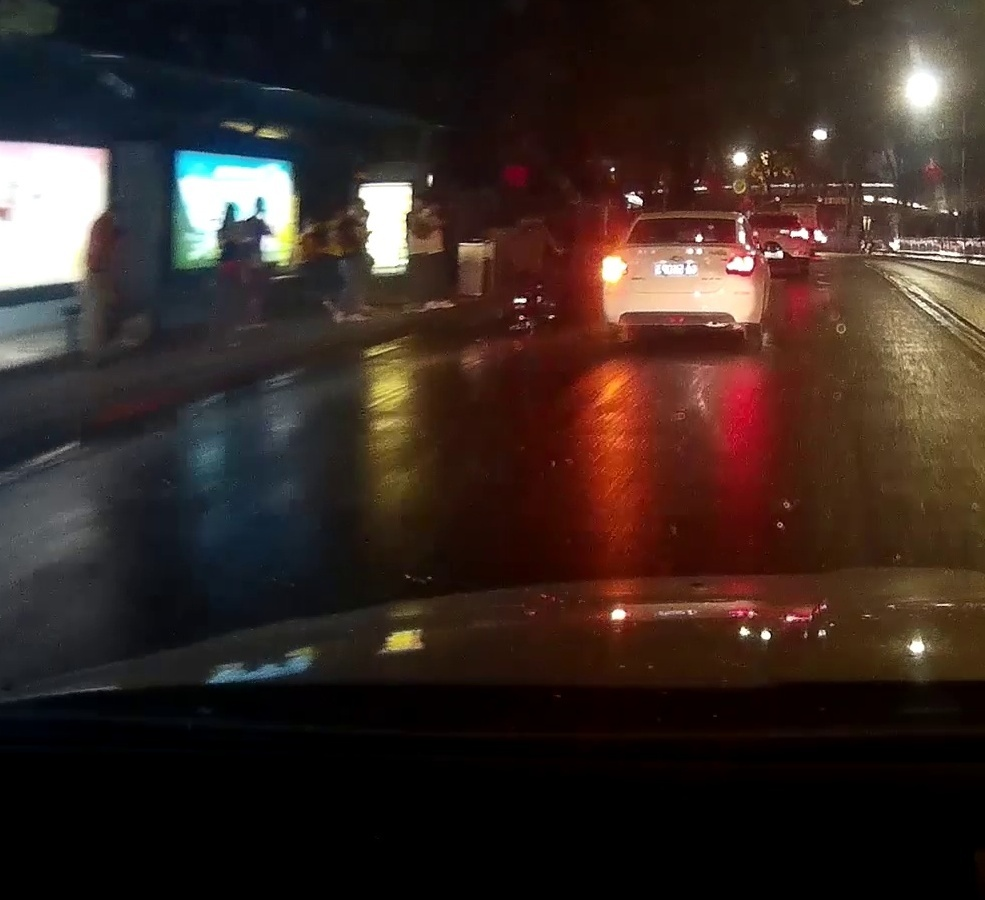L_light: (603, 258, 629, 276)
R_light: (725, 256, 755, 276)
T_light: (676, 218, 696, 222)
night-left: (601, 209, 760, 342)
